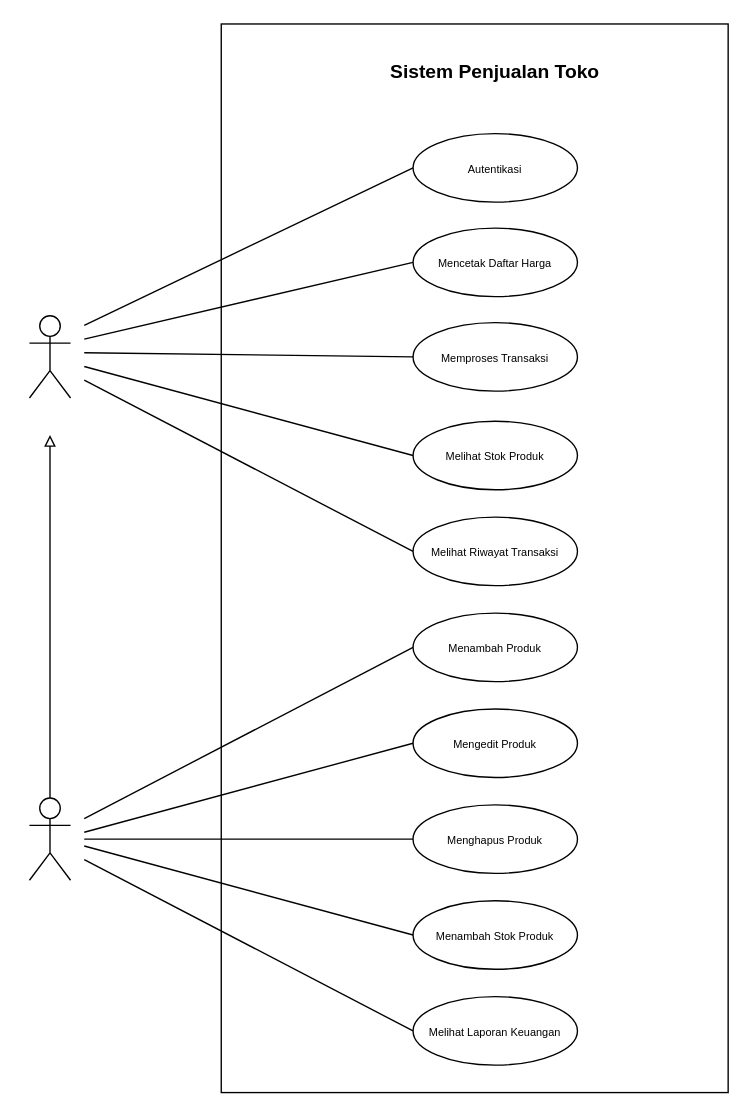
Image size: 752x1117. Some labels were removed from this diagram. Here are the shapes that lost their labels. From the top down, the centre of each, then its label:
point (49, 356): Kasir
point (49, 838): Pemilik
